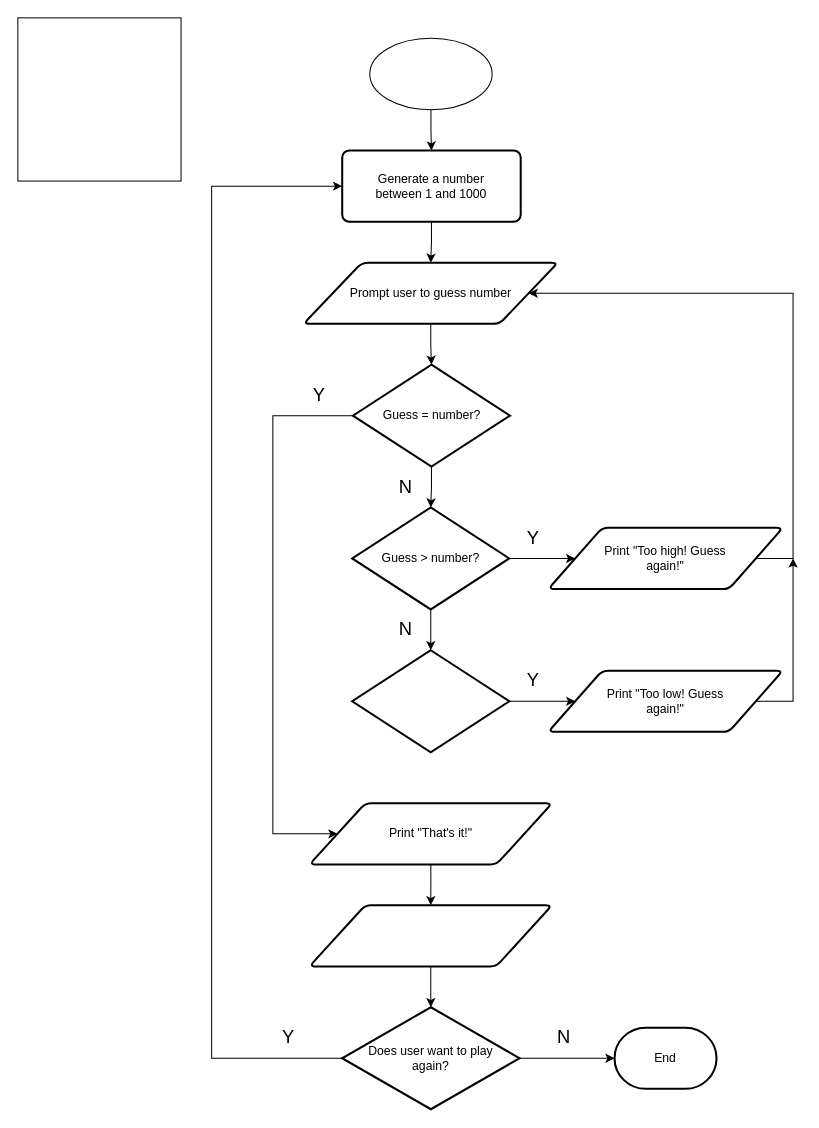
Some shapes in this 819 by 1128 pixel diagram are drawn without their labels. The centre of each missing label's shape, as x and y in pixels:
"Abi Lea CSC111 Guessing Game 2/16/21" goes at (x=99, y=99).
"Guess < number?" goes at (x=430, y=701).
"Prompt user to play again" goes at (x=430, y=935).
"Start" goes at (x=430, y=73).
